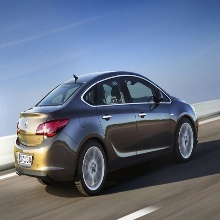no damage: (12, 70, 200, 197)
